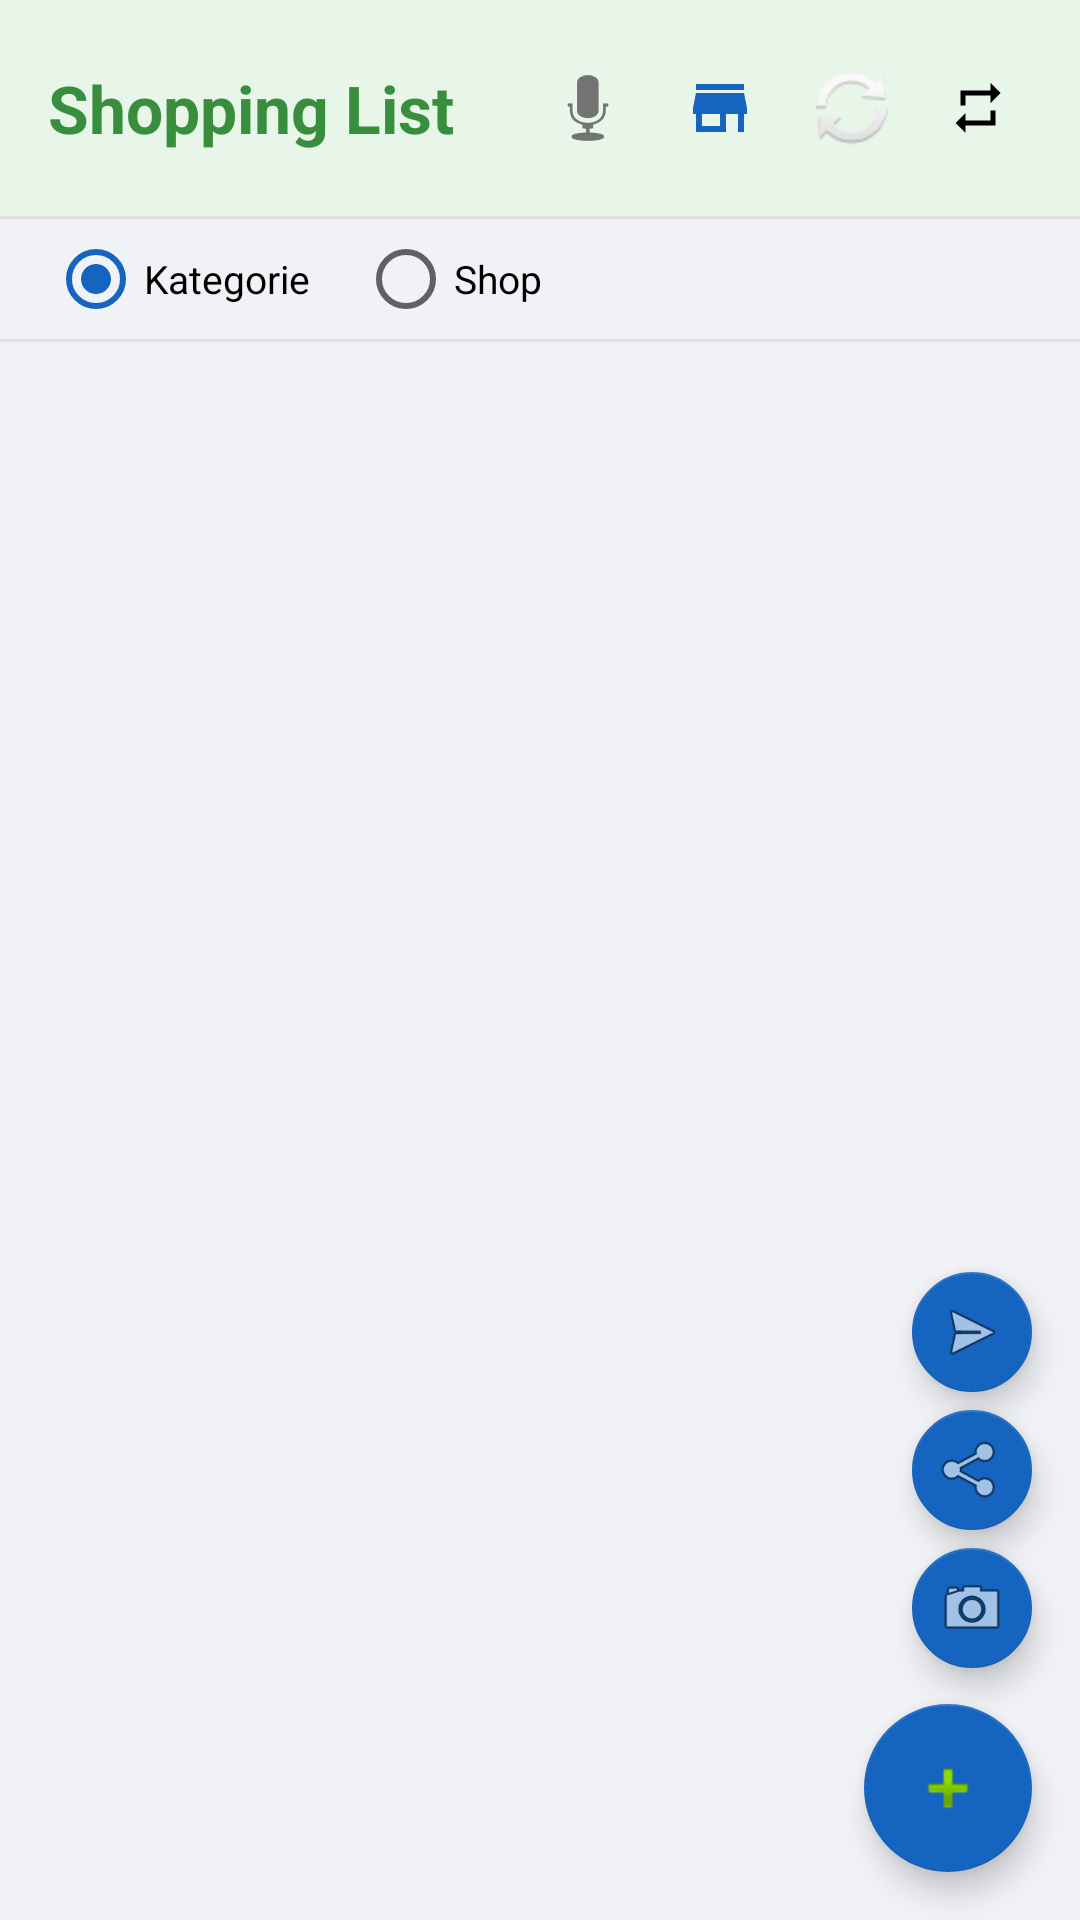

Where icons sit on this 1080 × 1920 app screen, as bbox=[x1, y1, x2, y2]:
Add Item: bbox=[864, 1704, 1032, 1872]
Auto-Wechsel ein/aus: bbox=[956, 83, 1001, 133]
Configure sync: bbox=[816, 81, 885, 143]
QR scannen: bbox=[912, 1548, 1032, 1668]
